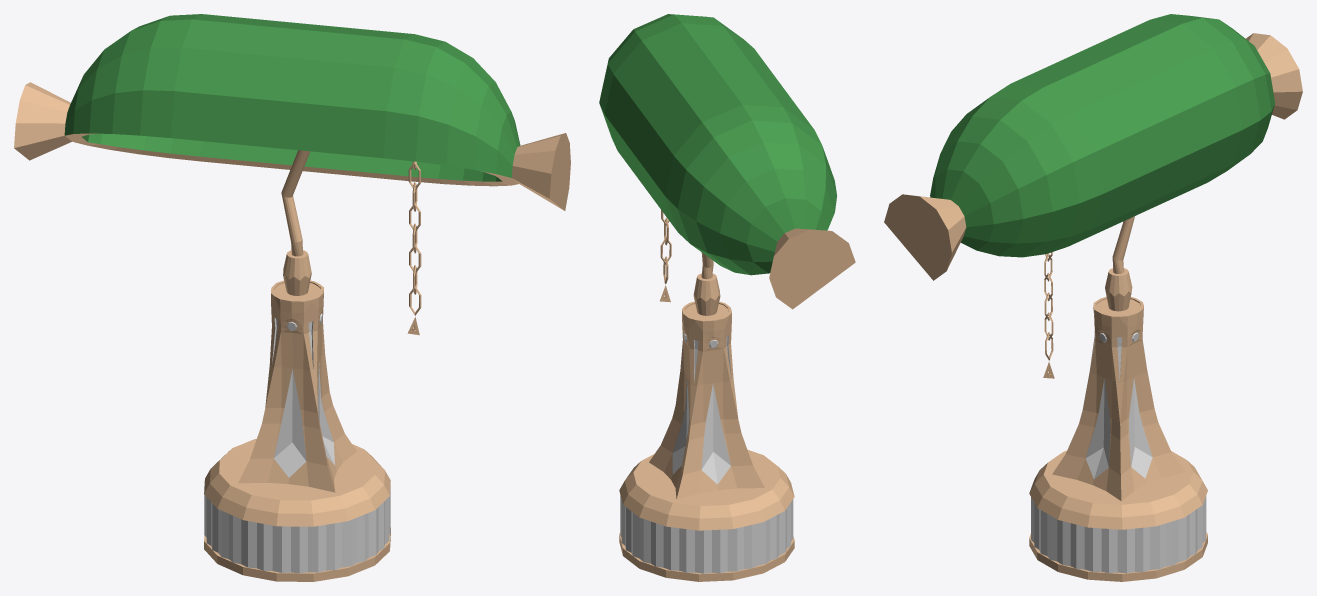
The model's file is lampara.fbx.
3 renders of one model, left to right at view 1: azimuth 30°, elevation 25°; view 2: azimuth 150°, elevation 25°; view 3: azimuth 270°, elevation 25°, orthographic. The views are drawn at different scales.
Visible parts, largest first — view 1: luz lampara, lampara, cadena; view 2: luz lampara, lampara, cadena; view 3: luz lampara, lampara, cadena.
Part boxes in pixels (x1,y1,x2,y2): luz lampara: (14, 14, 570, 210); lampara: (204, 150, 390, 581); cadena: (408, 161, 421, 315); luz lampara: (599, 14, 855, 309); lampara: (619, 252, 794, 581); cadena: (660, 210, 671, 283); luz lampara: (884, 14, 1302, 280); lampara: (1029, 216, 1207, 581); cadena: (1044, 252, 1053, 360).
Bounding box in the file's own units: 3541 × 4289 × 3341.
